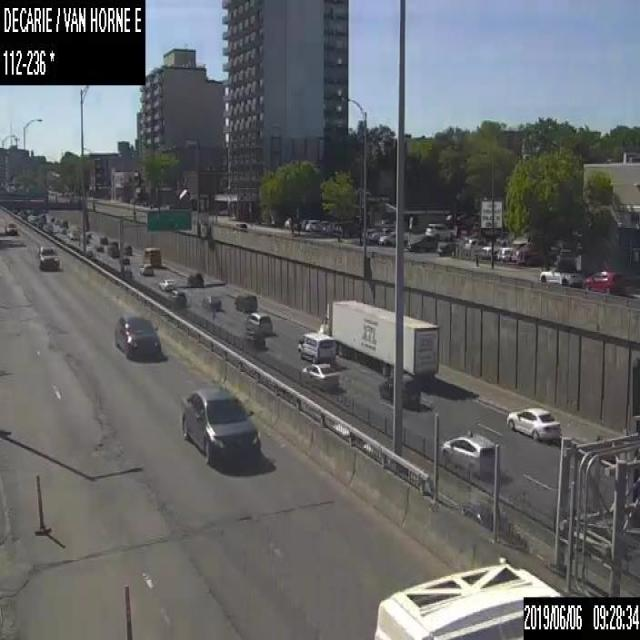bus: (373, 553, 561, 639)
construction: (34, 469, 50, 536), (122, 580, 133, 639)
vehicle: (317, 298, 440, 383), (182, 384, 260, 463), (442, 430, 497, 476), (115, 313, 161, 361), (505, 404, 560, 442), (377, 371, 420, 409), (462, 502, 512, 530), (296, 330, 336, 363), (539, 263, 582, 287), (301, 362, 339, 389), (582, 269, 624, 293), (244, 312, 272, 334), (36, 243, 58, 269), (377, 230, 406, 248), (407, 233, 436, 250), (242, 327, 264, 349), (233, 292, 257, 312), (424, 222, 451, 239), (436, 238, 459, 256), (202, 293, 220, 311), (465, 236, 483, 254), (142, 246, 160, 264), (496, 246, 516, 262), (168, 287, 186, 304), (186, 272, 203, 287), (106, 239, 118, 257), (158, 278, 174, 290), (305, 218, 320, 230), (479, 244, 491, 259), (66, 227, 79, 240), (139, 263, 152, 275), (4, 221, 17, 233), (122, 244, 131, 255), (119, 254, 129, 263), (93, 243, 103, 252), (58, 224, 66, 233), (98, 234, 106, 243)
